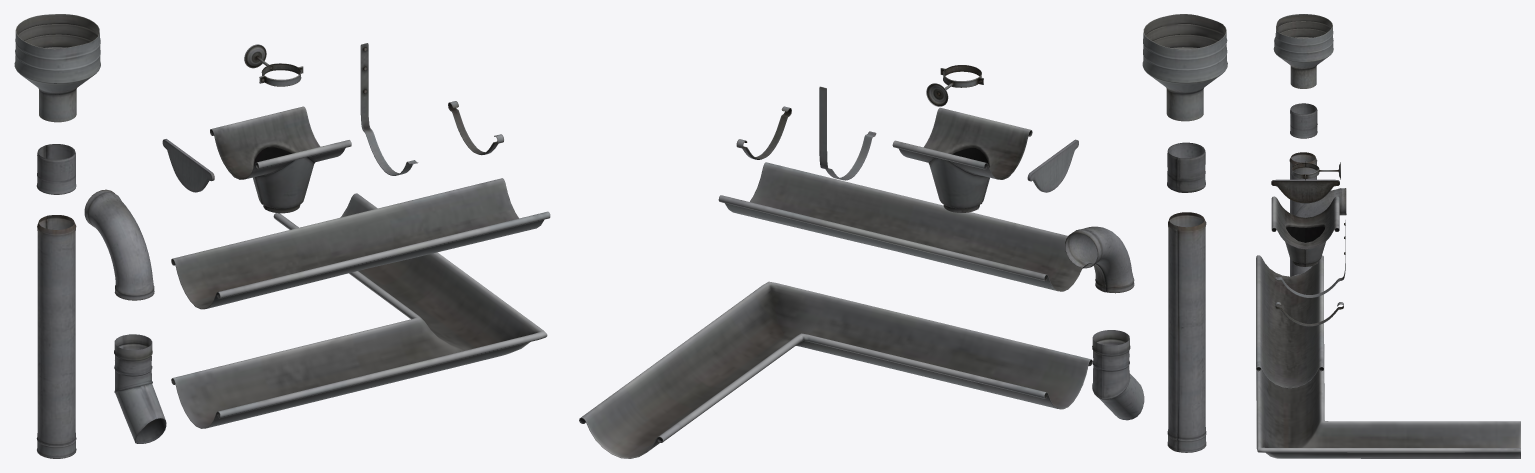
File: modular_metal_gutter_2k.gltf
3 renders of one model, left to right at view 1: azimuth 30°, elevation 25°; view 2: azimuth 150°, elevation 25°; view 3: azimuth 270°, elevation 25°, orthographic. The views are drawn at different scales.
Parts seen in each view (by area): view 1: modular_metal_gutter_corner, modular_metal_gutter, modular_metal_gutter_section, modular_metal_gutter_shower_receiver, modular_metal_gutter_funnel, modular_metal_gutter_bend, modular_metal_gutter_outlet, modular_metal_gutter_coupler, modular_metal_gutter_gutter_bracing, modular_metal_gutter_gutter_plug, modular_metal_gutter_bracing, modular_metal_gutter_gutter_coupler; view 2: modular_metal_gutter_corner, modular_metal_gutter, modular_metal_gutter_section, modular_metal_gutter_shower_receiver, modular_metal_gutter_funnel, modular_metal_gutter_outlet, modular_metal_gutter_bend, modular_metal_gutter_coupler, modular_metal_gutter_gutter_plug, modular_metal_gutter_gutter_bracing, modular_metal_gutter_bracing; view 3: modular_metal_gutter_corner, modular_metal_gutter, modular_metal_gutter_funnel, modular_metal_gutter_shower_receiver, modular_metal_gutter_gutter_plug, modular_metal_gutter_coupler, modular_metal_gutter_section, modular_metal_gutter_bend, modular_metal_gutter_bracing, modular_metal_gutter_gutter_bracing, modular_metal_gutter_gutter_coupler.
Boxes of the visible parts, x1,y1,x2,y2 form: modular_metal_gutter_corner: [171, 193, 547, 428]; modular_metal_gutter: [171, 178, 550, 309]; modular_metal_gutter_section: [36, 215, 76, 458]; modular_metal_gutter_shower_receiver: [210, 106, 351, 213]; modular_metal_gutter_funnel: [14, 14, 100, 122]; modular_metal_gutter_bend: [84, 189, 154, 300]; modular_metal_gutter_outlet: [114, 334, 166, 443]; modular_metal_gutter_coupler: [36, 144, 76, 194]; modular_metal_gutter_gutter_bracing: [360, 43, 418, 175]; modular_metal_gutter_gutter_plug: [162, 139, 214, 192]; modular_metal_gutter_bracing: [244, 44, 303, 86]; modular_metal_gutter_gutter_coupler: [448, 101, 503, 155]; modular_metal_gutter_corner: [579, 281, 1092, 458]; modular_metal_gutter: [718, 162, 1081, 291]; modular_metal_gutter_section: [1167, 212, 1206, 452]; modular_metal_gutter_shower_receiver: [892, 107, 1032, 212]; modular_metal_gutter_funnel: [1142, 14, 1227, 121]; modular_metal_gutter_outlet: [1092, 330, 1144, 420]; modular_metal_gutter_bend: [1065, 226, 1134, 293]; modular_metal_gutter_coupler: [1167, 142, 1205, 192]; modular_metal_gutter_gutter_plug: [1027, 139, 1078, 192]; modular_metal_gutter_gutter_bracing: [819, 86, 876, 180]; modular_metal_gutter_bracing: [926, 65, 983, 106]; modular_metal_gutter_corner: [1256, 344, 1520, 458]; modular_metal_gutter: [1256, 255, 1323, 388]; modular_metal_gutter_funnel: [1273, 14, 1333, 88]; modular_metal_gutter_shower_receiver: [1271, 196, 1339, 266]; modular_metal_gutter_gutter_plug: [1271, 179, 1339, 203]; modular_metal_gutter_coupler: [1290, 103, 1317, 138]; modular_metal_gutter_section: [1289, 152, 1317, 276]; modular_metal_gutter_bend: [1295, 188, 1346, 217]; modular_metal_gutter_bracing: [1291, 161, 1340, 180]; modular_metal_gutter_gutter_bracing: [1275, 220, 1345, 297]; modular_metal_gutter_gutter_coupler: [1275, 302, 1343, 326].
Bounding box in the file's own units: 2.27 × 1.84 × 1.51.
2 materials, 2 textured.
